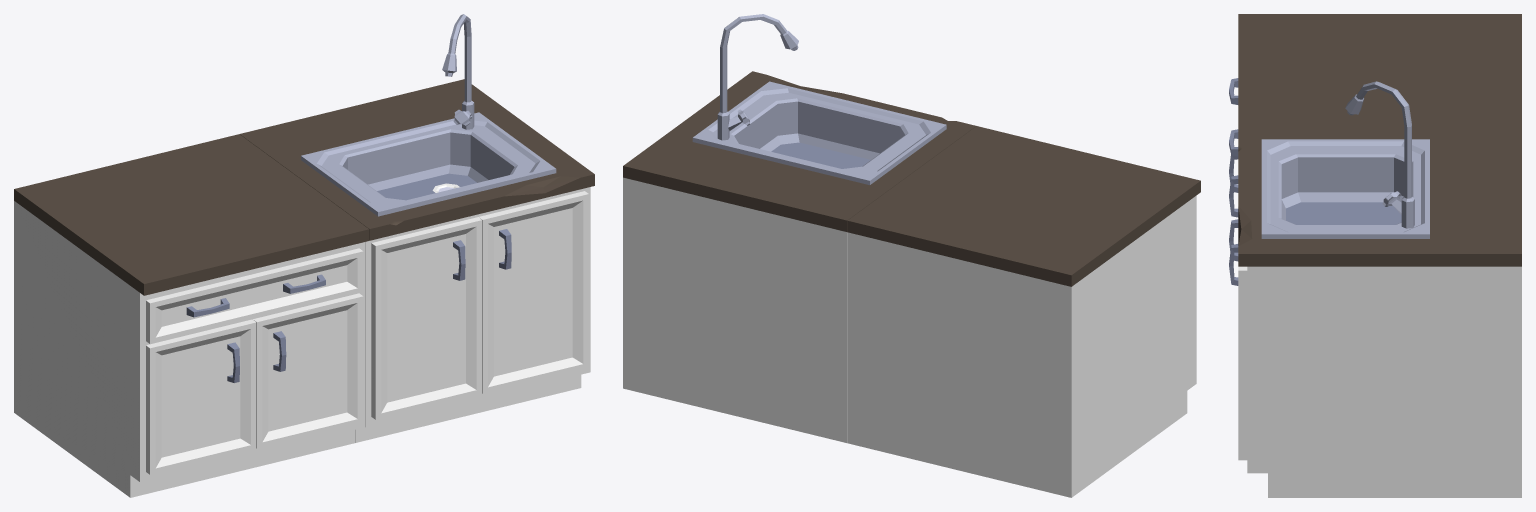
File: KitchenCounter.FBX
3 renders of one model, left to right at view 1: azimuth 30°, elevation 25°; view 2: azimuth 150°, elevation 25°; view 3: azimuth 270°, elevation 25°, orthographic. The views are drawn at different scales.
Visible parts, largest first — view 1: Kitchen_Counter_01; view 2: Kitchen_Counter_01; view 3: Kitchen_Counter_01.
Part boxes in pixels (x1=…): Kitchen_Counter_01: x1=14, y1=14, x2=594, y2=497; Kitchen_Counter_01: x1=623, y1=14, x2=1200, y2=497; Kitchen_Counter_01: x1=1229, y1=14, x2=1521, y2=497.
Bounding box in the file's own units: 56.16 × 41.16 × 28.98.
